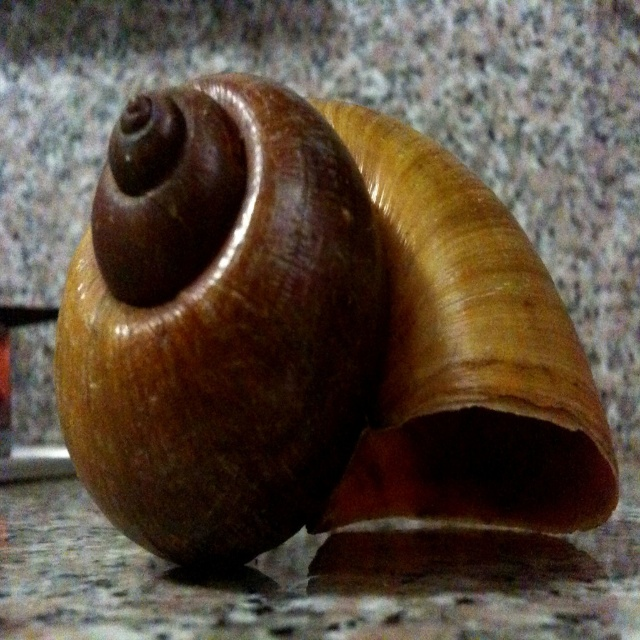Snail: (52, 71, 619, 565)
